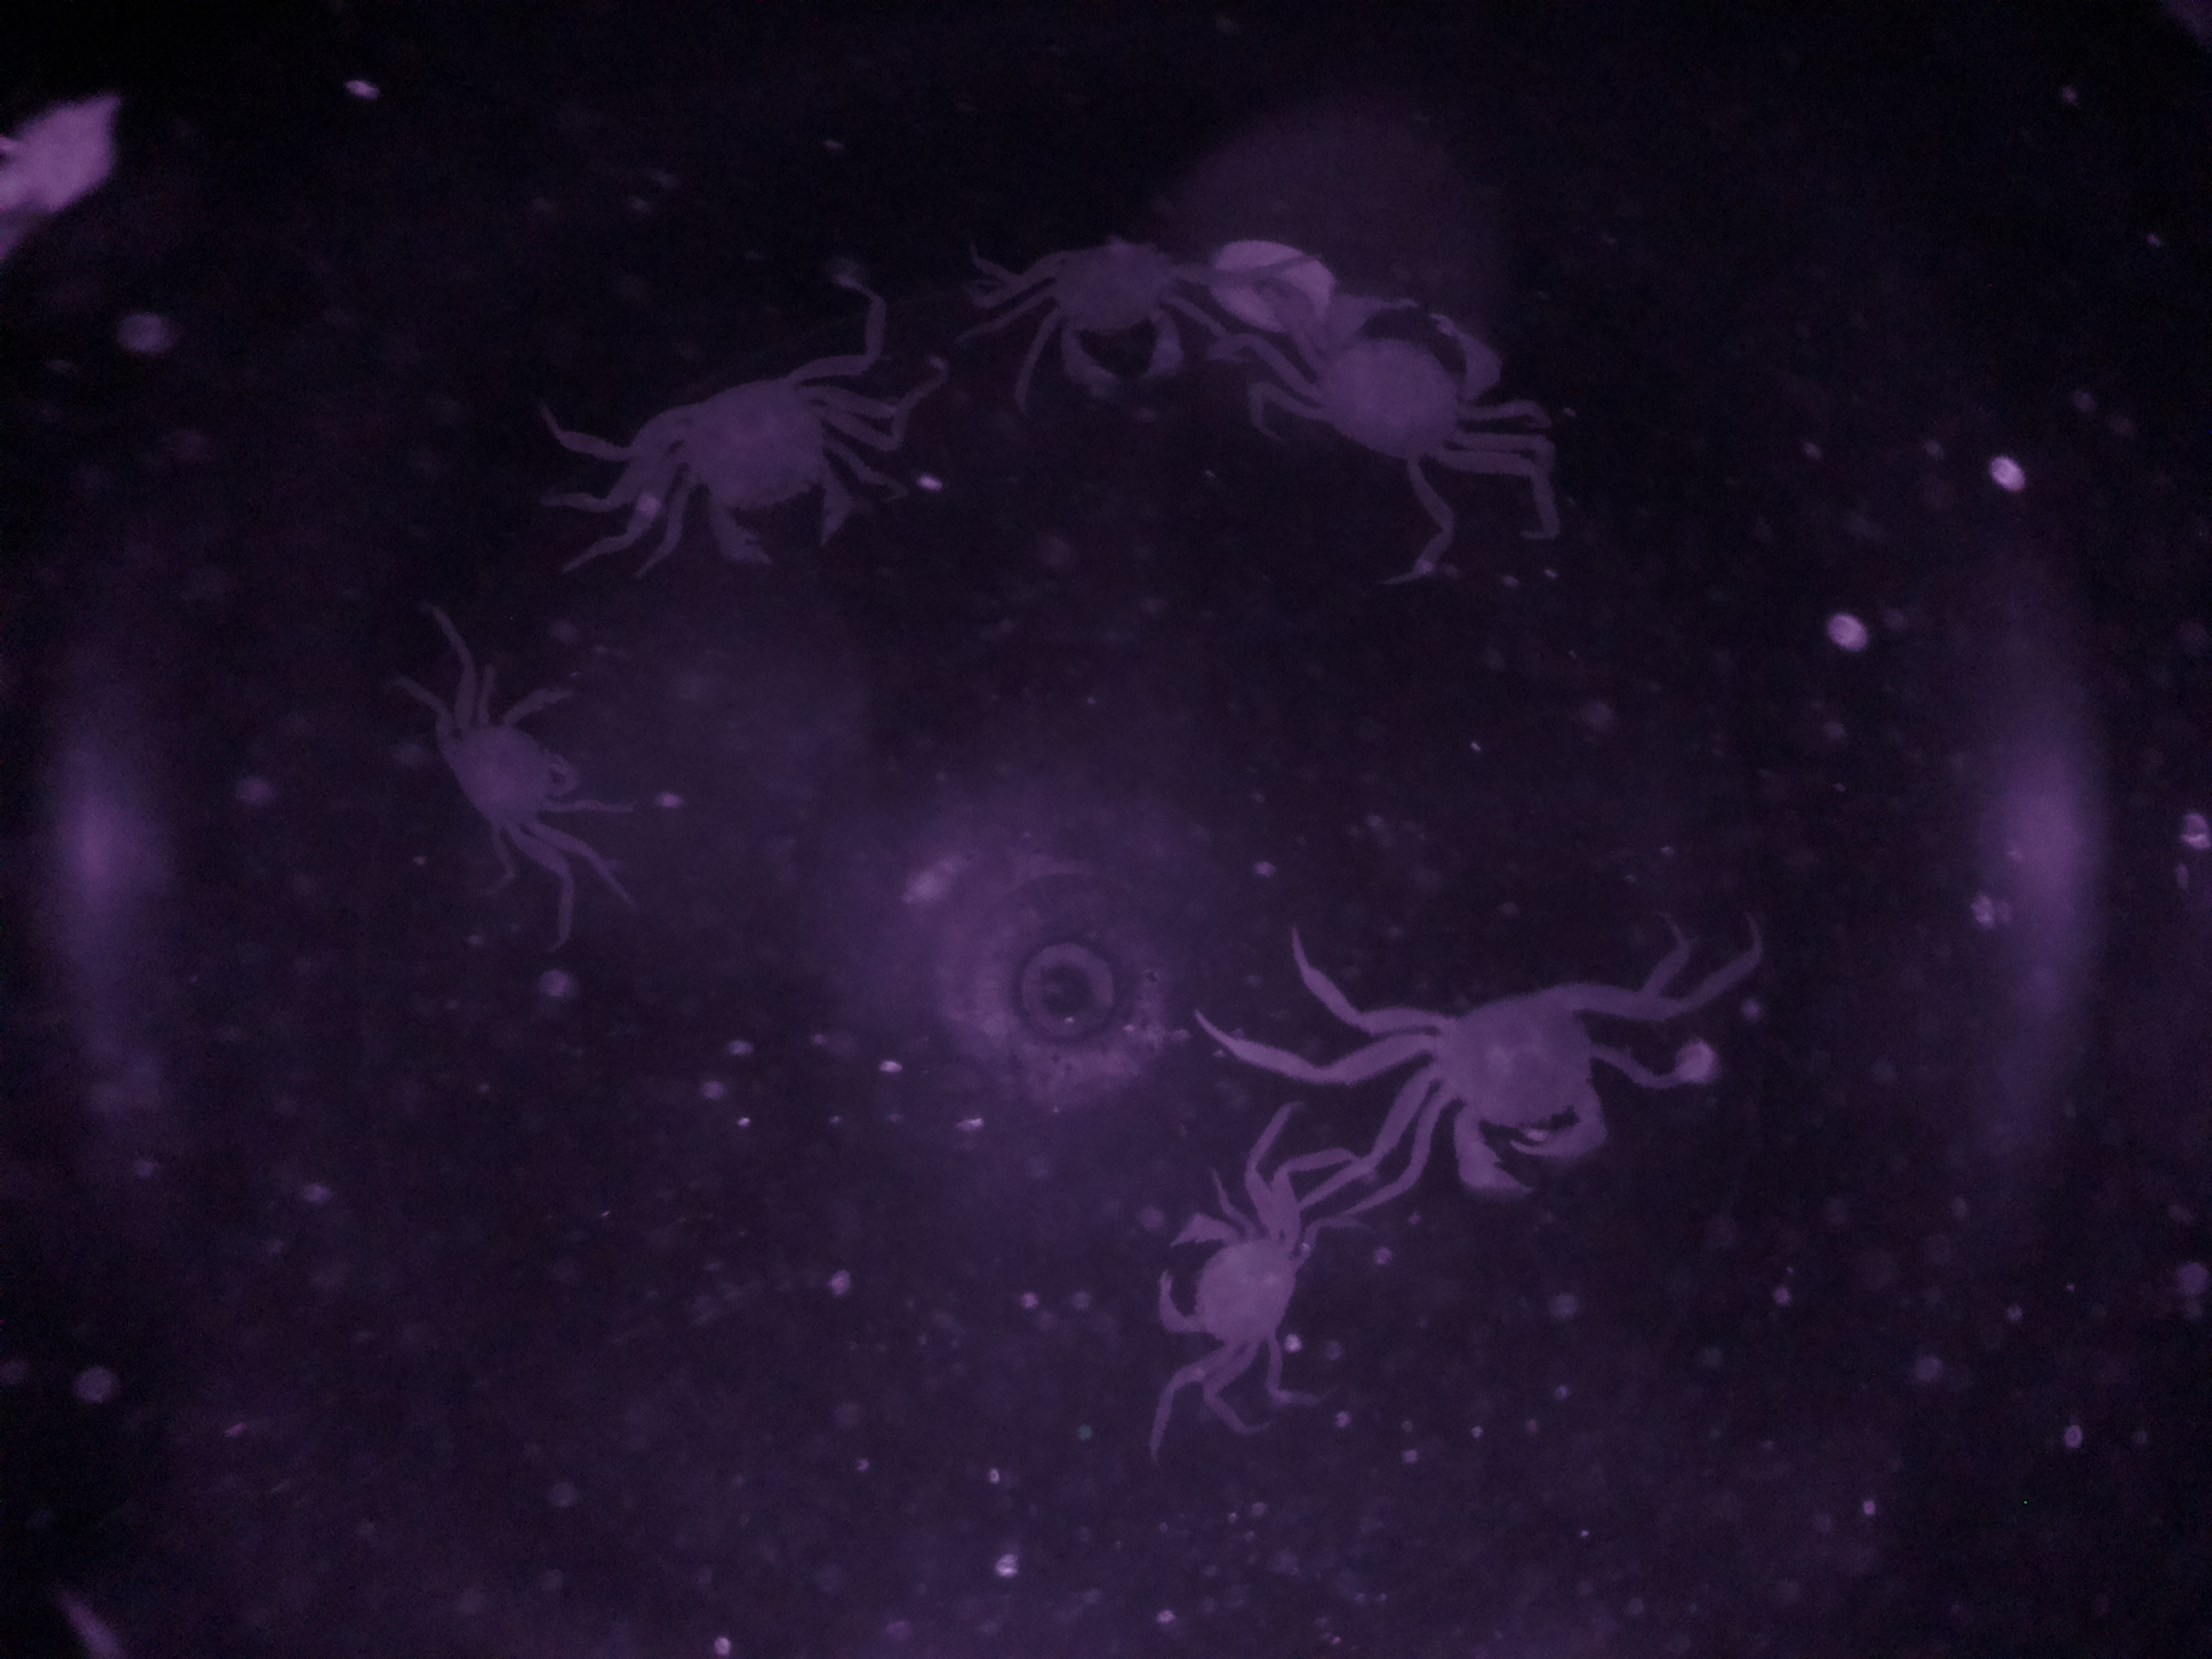Crab: (1336, 972, 1649, 1208), (1254, 265, 1547, 498), (1118, 1166, 1355, 1405)
